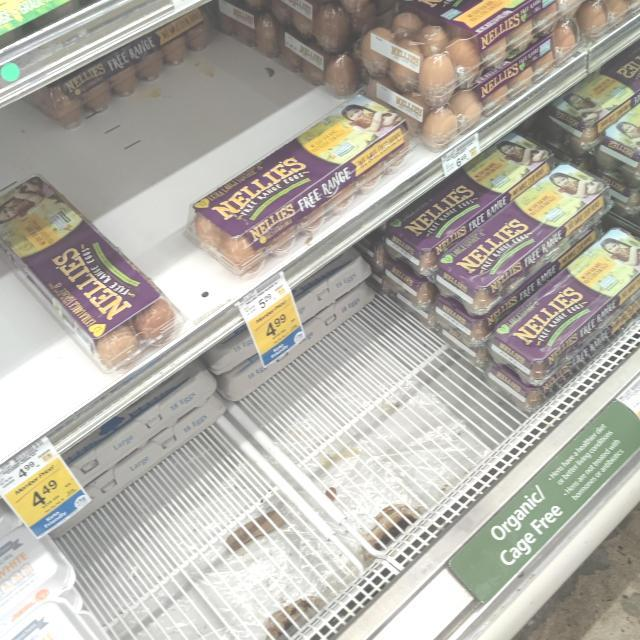Eggs: (186, 88, 424, 263), (0, 174, 183, 371), (418, 146, 620, 322), (350, 0, 640, 115), (484, 225, 640, 384)
